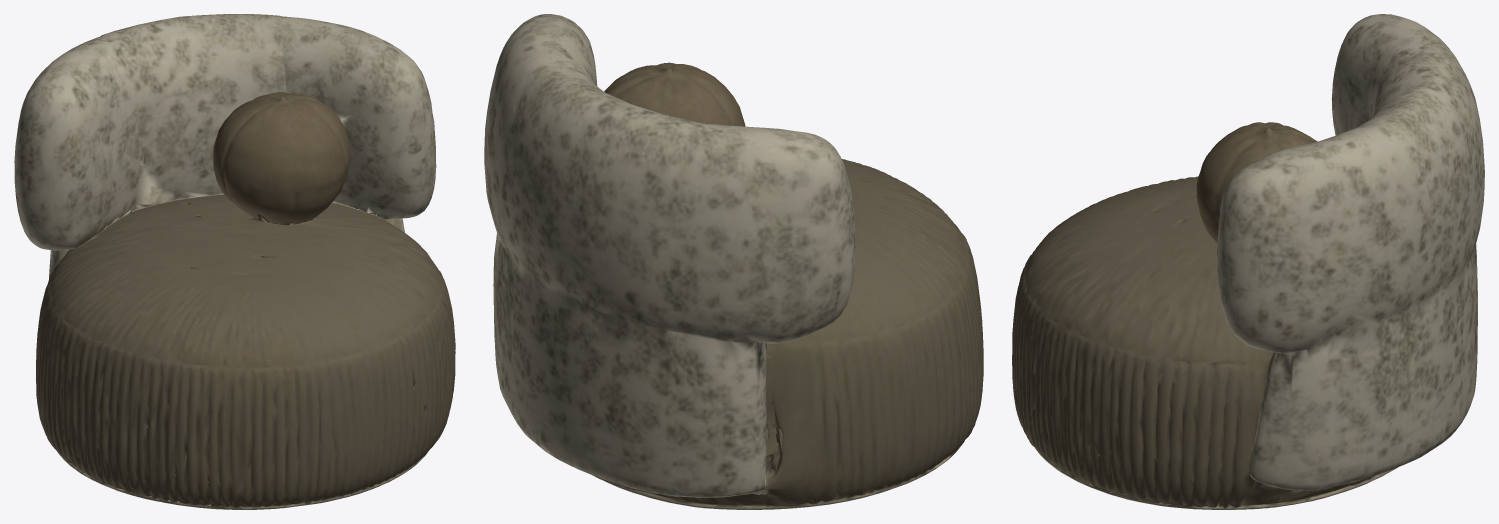
Rendered from olive-crescent-chair.glb.
The picture shows the model from 3 angles, left to right: view 1: azimuth 30°, elevation 25°; view 2: azimuth 150°, elevation 25°; view 3: azimuth 270°, elevation 25°; orthographic projection. The views are drawn at different scales.
Visible parts, largest first — view 1: world; view 2: world; view 3: world.
Boxes of the visible parts, box(x1,y1,x2,y2) form: world: box(14, 14, 455, 509); world: box(484, 14, 983, 509); world: box(1012, 14, 1484, 509).
Bounding box in the file's own units: 0.9945 × 0.8348 × 1.
1 material, 1 textured.
